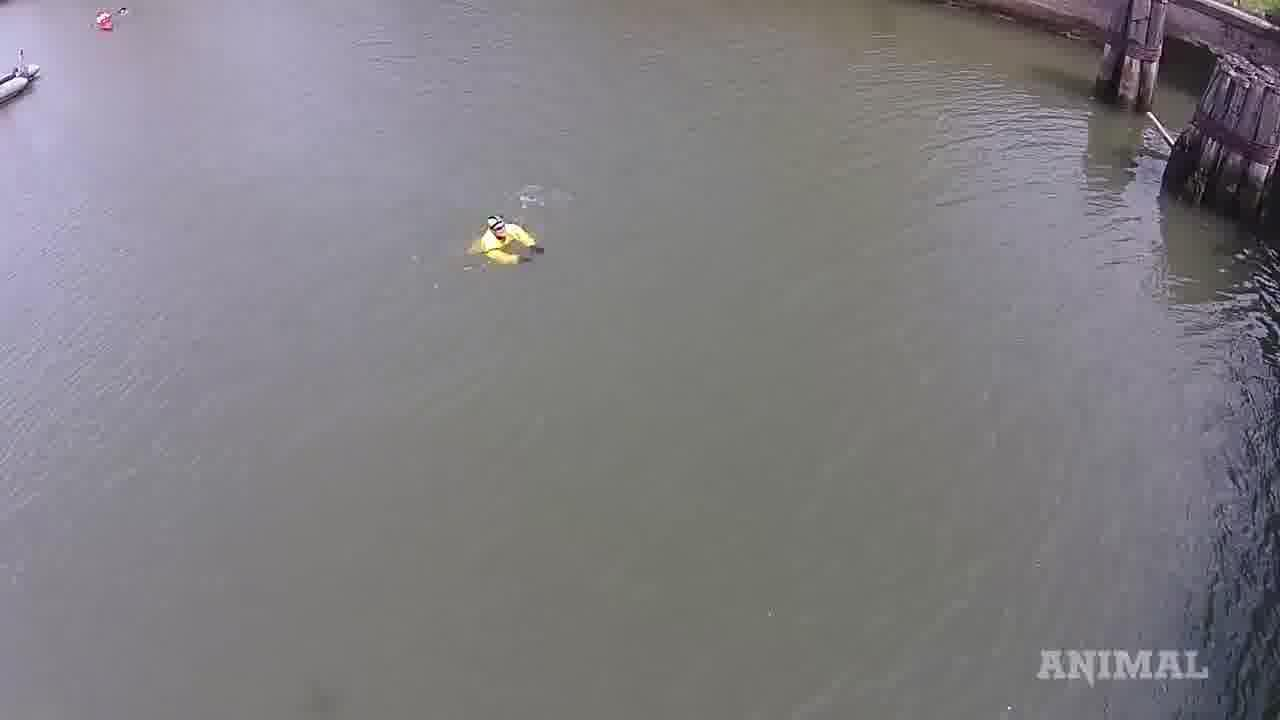swimmer: (456, 203, 546, 272)
